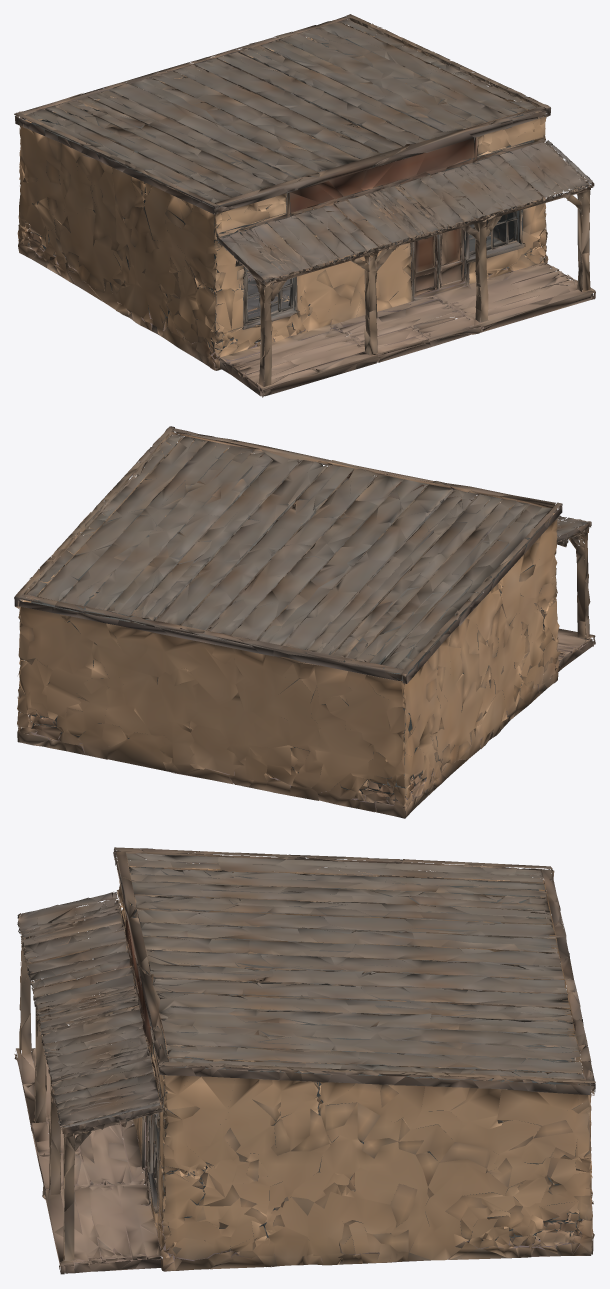
The model's file is store.glb.
3 views of the same model, one above another, from view 1: azimuth 30°, elevation 25°; view 2: azimuth 150°, elevation 25°; view 3: azimuth 270°, elevation 25° (orthographic). The views are drawn at different scales.
Visible parts, largest first — view 1: LO.001; view 2: LO.001; view 3: LO.001.
Part boxes in pixels (bbox=[...]): LO.001: bbox=[14, 14, 595, 397]; LO.001: bbox=[14, 426, 595, 818]; LO.001: bbox=[14, 847, 595, 1274].
Bounding box in the file's own units: 1.98 × 0.8246 × 2.06.
Materials: 1 (1 with a texture image).
